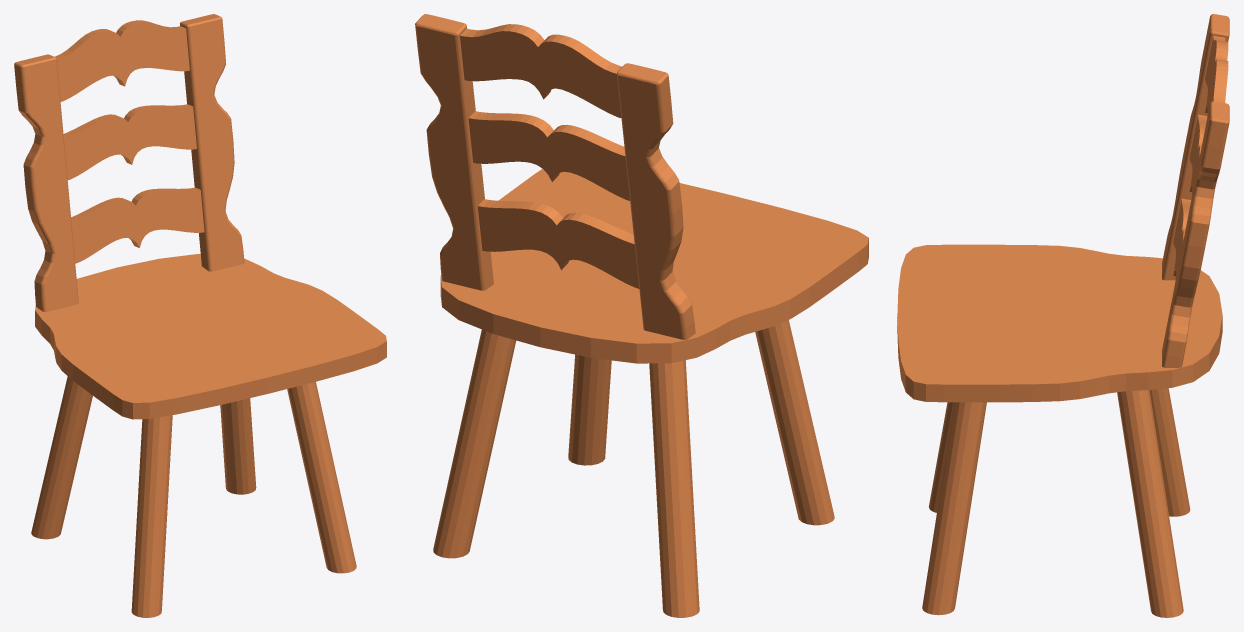
The model's file is Chair.fbx.
3 views of the same model, side by side, from view 1: azimuth 30°, elevation 25°; view 2: azimuth 150°, elevation 25°; view 3: azimuth 270°, elevation 25° (orthographic). The views are drawn at different scales.
Visible parts, largest first — view 1: Base, backpart1, BezierCurve.002, Foot.f.r, BezierCurve.001, BezierCurve, Foot.f.l, Foot.b.r, Foot.b.l; view 2: Base, backpart1, Foot.b.r, BezierCurve.002, Foot.b.l, BezierCurve.001, BezierCurve, Foot.f.r, Foot.f.l; view 3: Base, backpart1, Foot.b.l, Foot.f.l, Foot.b.r, BezierCurve.002, Foot.f.r, BezierCurve, BezierCurve.001.
Boxes of the visible parts, <box> form: Base: <box>35,254,386,419</box>; backpart1: <box>14,14,244,311</box>; BezierCurve.002: <box>55,20,189,101</box>; Foot.f.r: <box>131,415,172,617</box>; BezierCurve.001: <box>63,104,196,180</box>; BezierCurve: <box>71,187,204,263</box>; Foot.f.l: <box>287,382,356,573</box>; Foot.b.r: <box>31,376,92,539</box>; Foot.b.l: <box>220,398,256,494</box>; Base: <box>440,169,868,363</box>; backpart1: <box>415,14,695,339</box>; Foot.b.r: <box>649,360,699,617</box>; BezierCurve.002: <box>460,24,621,117</box>; Foot.b.l: <box>433,329,516,558</box>; BezierCurve.001: <box>468,111,629,200</box>; BezierCurve: <box>477,199,639,288</box>; Foot.f.r: <box>755,320,834,525</box>; Foot.f.l: <box>568,354,611,465</box>; Base: <box>897,244,1222,402</box>; backpart1: <box>1162,14,1229,367</box>; Foot.b.l: <box>1117,390,1183,617</box>; Foot.f.l: <box>922,402,986,615</box>; Foot.b.r: <box>1149,388,1190,516</box>; BezierCurve.002: <box>1205,36,1228,116</box>; Foot.f.r: <box>929,402,953,512</box>; BezierCurve: <box>1173,198,1191,279</box>; BezierCurve.001: <box>1189,114,1207,195</box>.
Bounding box in the file's own units: 65.52 × 65.79 × 111.
